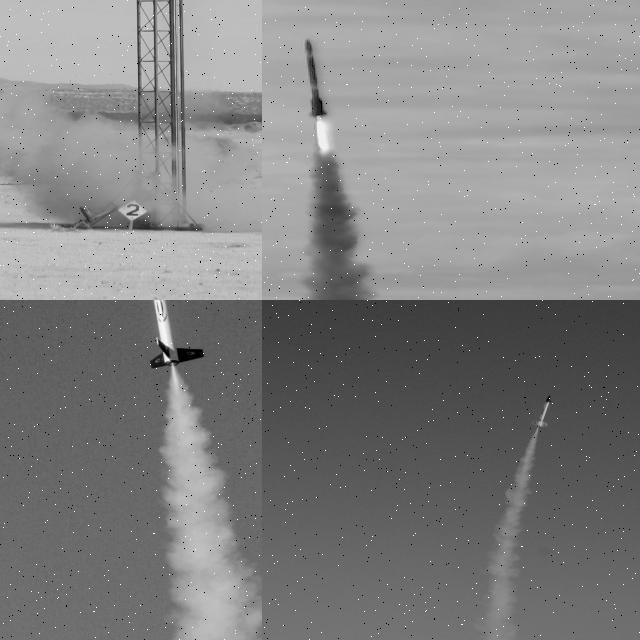Rocket: (139, 300, 206, 369), (305, 39, 328, 119), (532, 393, 551, 428)
